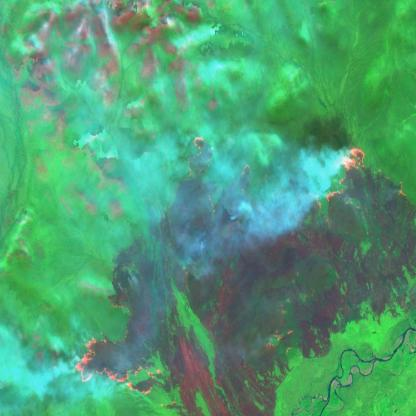fire: (187, 133, 415, 219), (71, 328, 167, 402)
